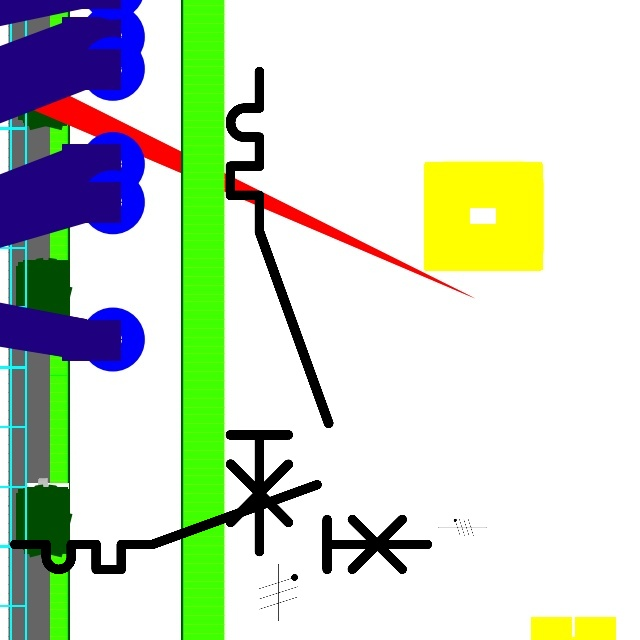interruptor_termomagnetico: (218, 59, 341, 564), (4, 474, 438, 580)
